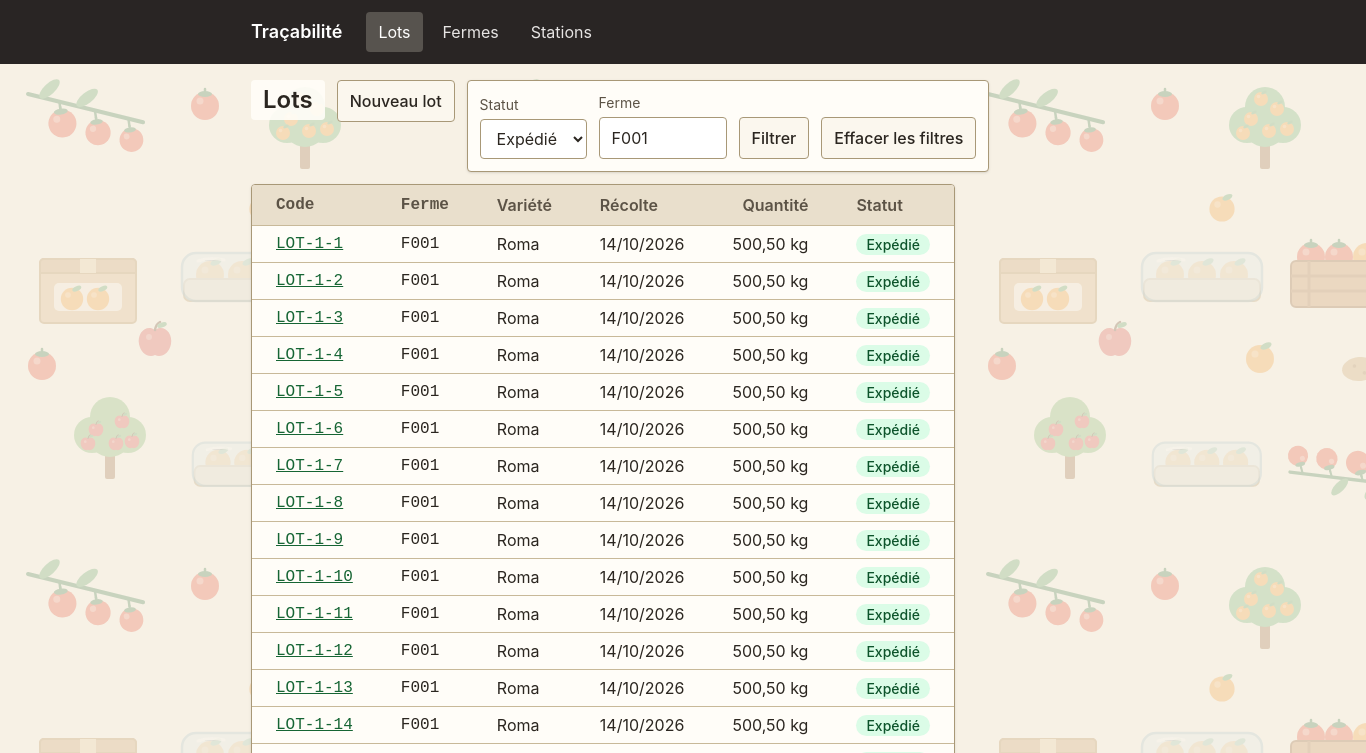
BatchesPage › clears the filters
Expected: the link "LOT-1-1" is shown, [276,235,343,253]
Click the button "Effacer les filtres": (899, 138) [821,117,976,159]
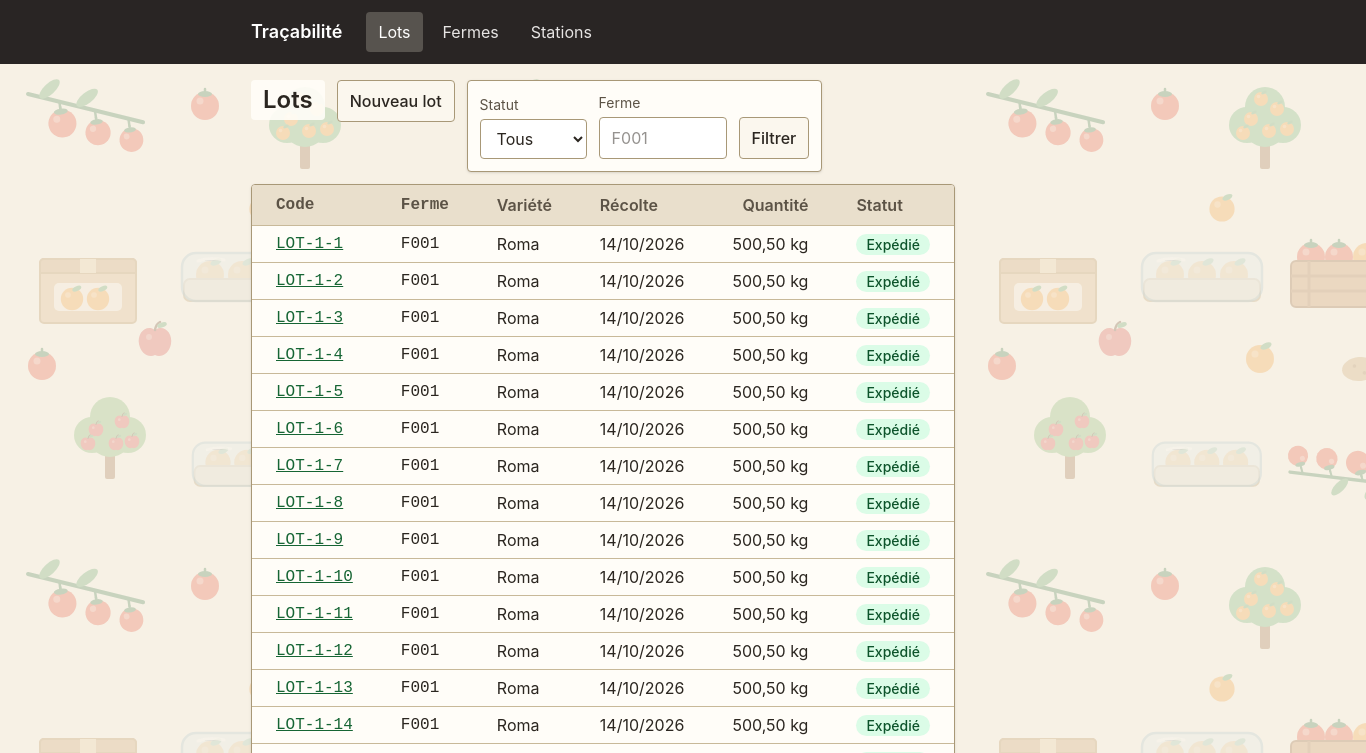
Expected: the link "LOT-1-1" is shown, [276,235,343,253]
Expected: the button "Effacer les filtres" is gone
